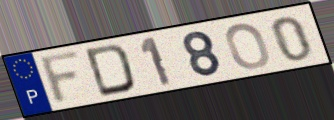0: (268, 15, 317, 63)
1: (139, 34, 175, 89)
8: (182, 30, 224, 78)
D: (83, 42, 139, 99)
F: (37, 48, 84, 108)
O: (223, 21, 272, 71)
